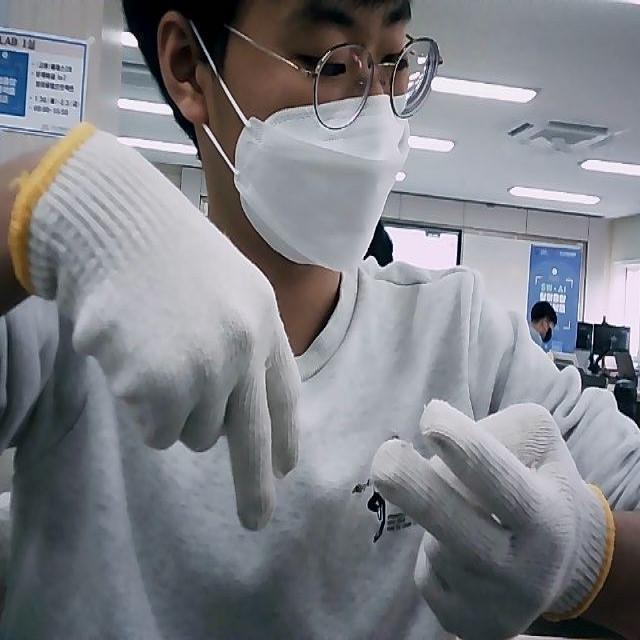Guantes: (9, 122, 302, 532), (370, 399, 614, 640)
